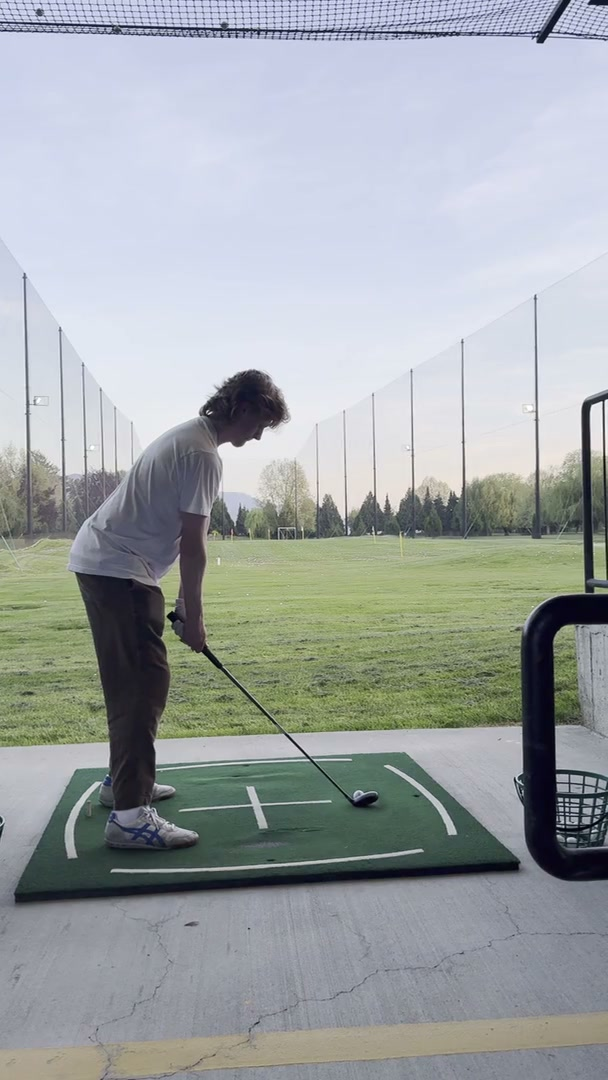Golf Ball: (345, 783, 366, 804)
